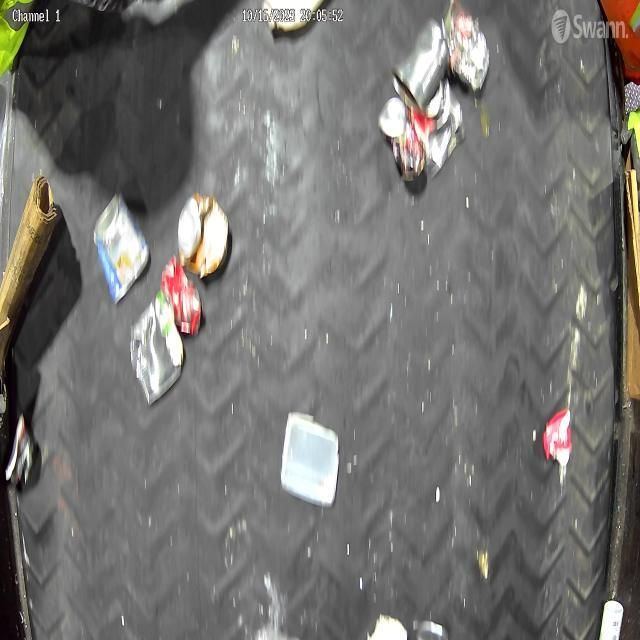can: (92, 188, 150, 306), (130, 290, 185, 406), (390, 15, 450, 114), (178, 190, 230, 280), (379, 96, 427, 180), (160, 255, 202, 338)
